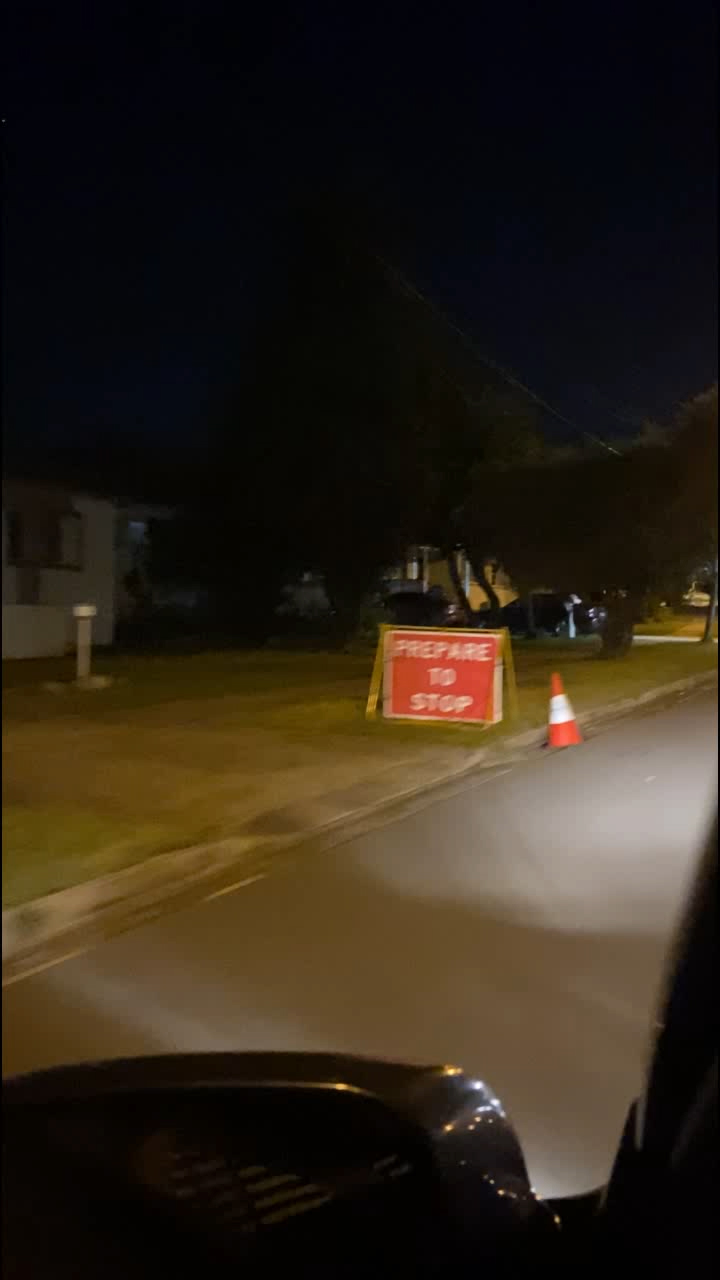prepare to stop board: (372, 617, 515, 735)
road cone: (543, 672, 587, 748)
